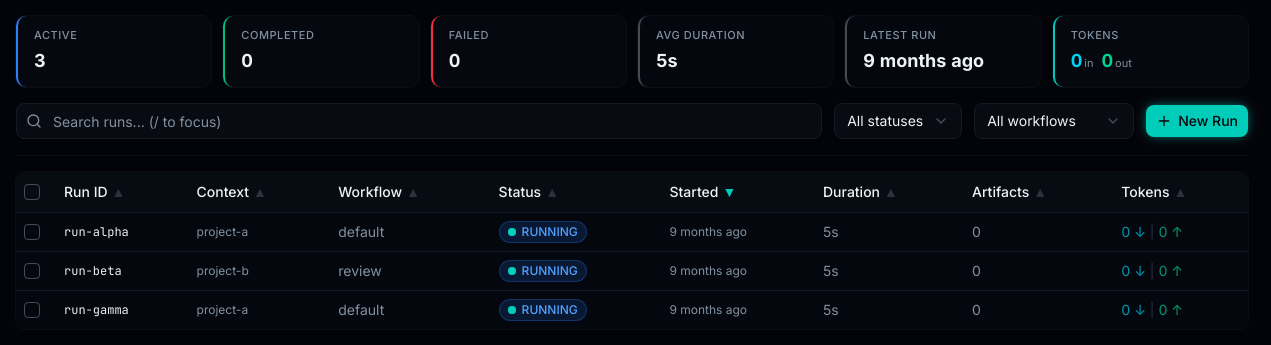
Test: RunListPage - search filter › clears the search when clicking the clear button
expect the text "run-alpha" is shown: met, box [56,212,188,251]
Type "beta" into the field with placeholder "Search runs... (/ to focus)". click: x=419, y=121
box: [16,103,822,139]
Wait 350 ms
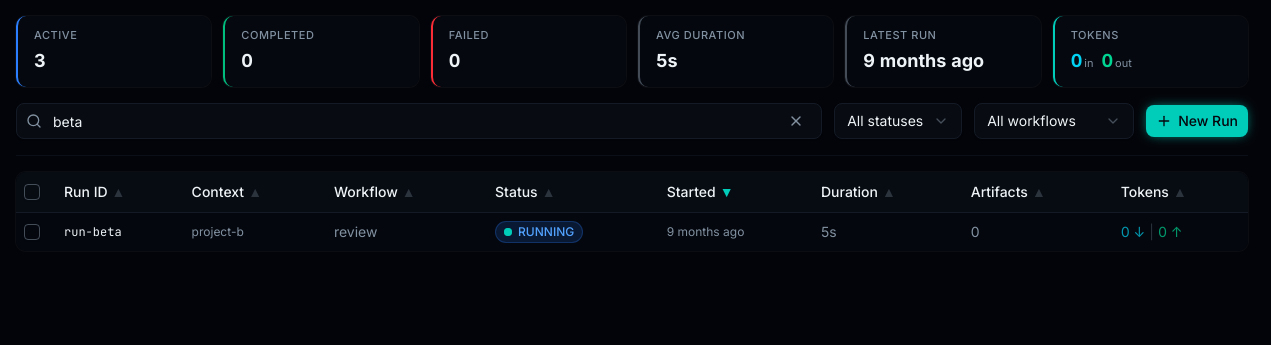
expect the link "run-alpha" is gone: met
Click the button named "Clear search". click: x=796, y=121
box: [780,105,812,137]
Wait 350 ms
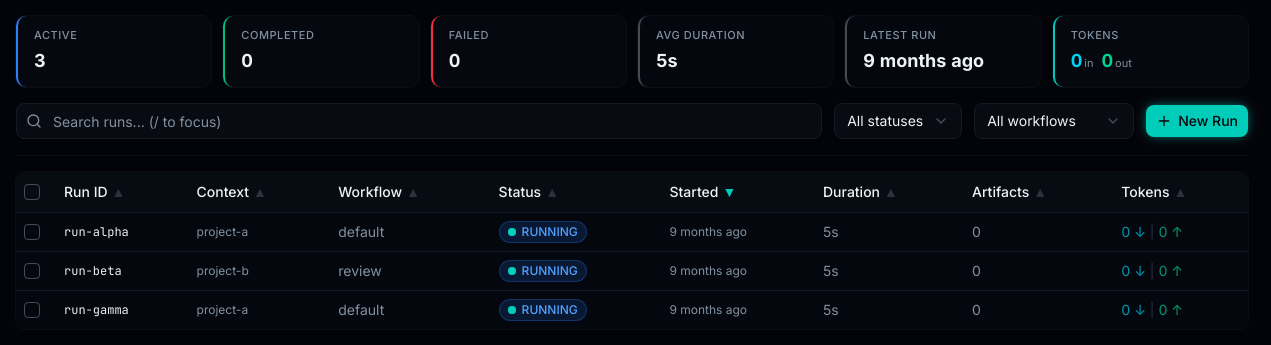
expect the text "run-beta" is shown: met, box [56,251,188,290]
expect the text "run-alpha" is shown: met, box [56,212,188,251]
expect the text "run-gamma" is shown: met, box [56,290,188,329]
